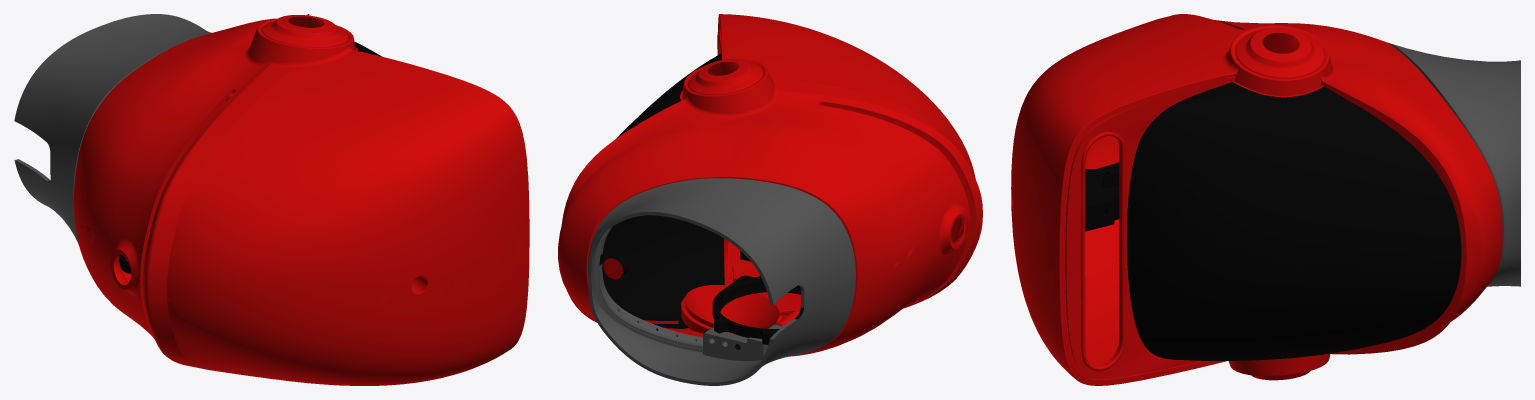
The model's file is head_pitch.glb.
The picture shows the model from 3 angles, left to right: view 1: azimuth 30°, elevation 25°; view 2: azimuth 150°, elevation 25°; view 3: azimuth 270°, elevation 25°; orthographic projection. The views are drawn at different scales.
Parts seen in each view (by area): view 1: head_pitch; view 2: head_pitch; view 3: head_pitch.
Part boxes in pixels (bbox=[...]): head_pitch: bbox=[14, 14, 529, 385]; head_pitch: bbox=[558, 14, 982, 385]; head_pitch: bbox=[1011, 14, 1520, 385].
Size of the model in its own units: 0.1838 by 0.1686 by 0.2317.
